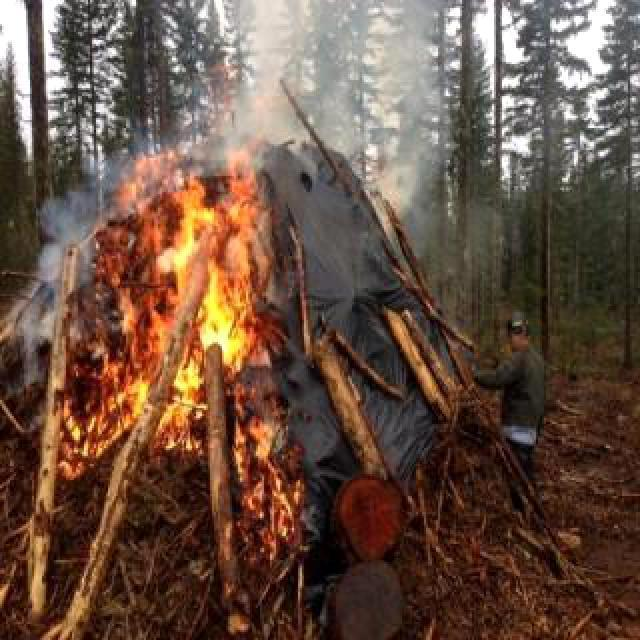Fire: (73, 136, 312, 544)
Smoke: (171, 0, 447, 180)
